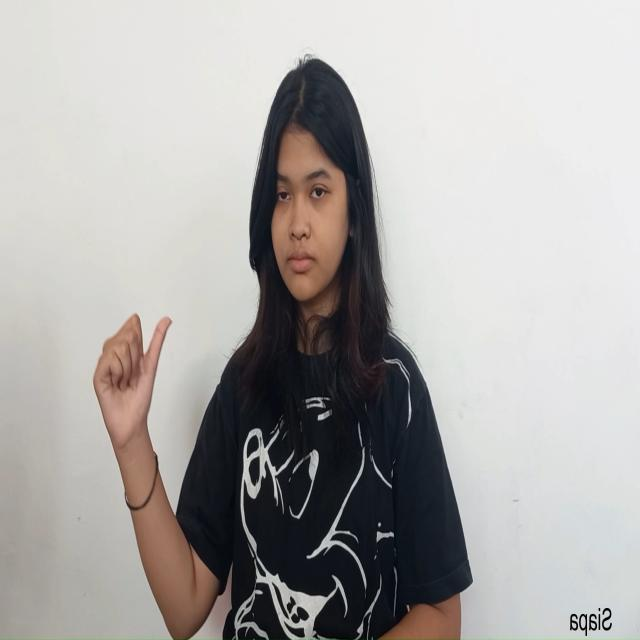Siapa -BISINDO-: (90, 310, 174, 478)
